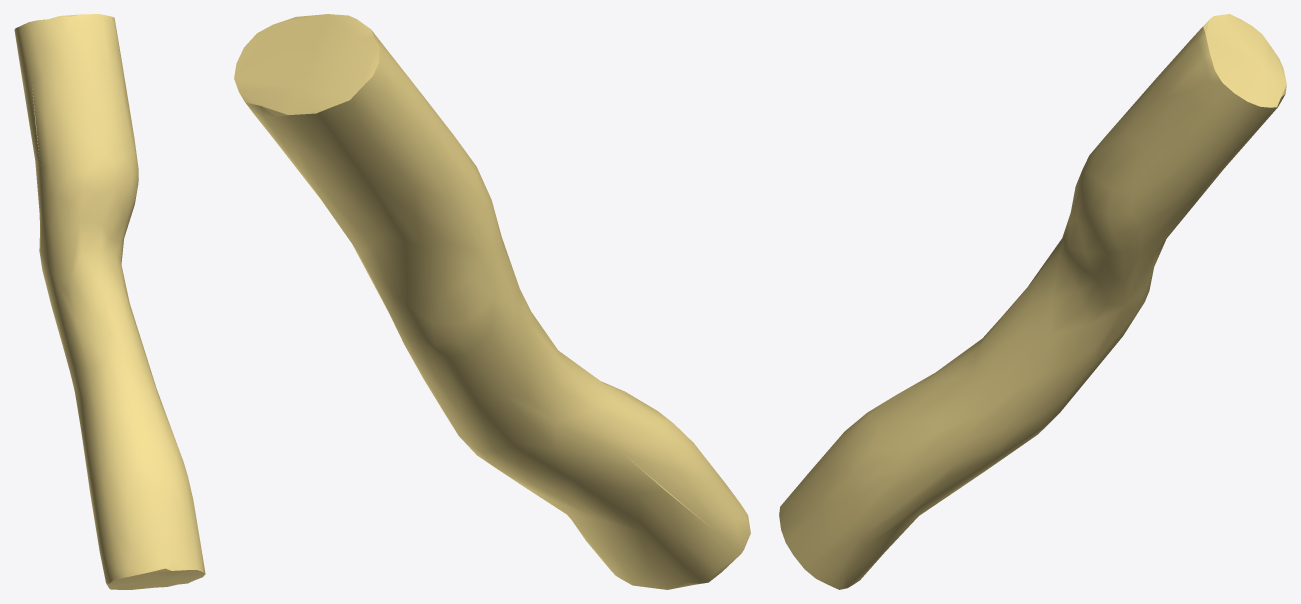
File: fma73390_fj7486.glb
3 views of the same model, side by side, from view 1: azimuth 30°, elevation 25°; view 2: azimuth 150°, elevation 25°; view 3: azimuth 270°, elevation 25° (orthographic). The views are drawn at different scales.
Parts seen in each view (by area): view 1: FMA73390_FJ7486; view 2: FMA73390_FJ7486; view 3: FMA73390_FJ7486.
Part boxes in pixels (box(x1,y1,x2,y2)): FMA73390_FJ7486: box(14, 14, 205, 589); FMA73390_FJ7486: box(234, 14, 750, 589); FMA73390_FJ7486: box(779, 14, 1286, 589).
Bounding box in the file's own units: 0.00286 × 0.00757 × 0.00595.
